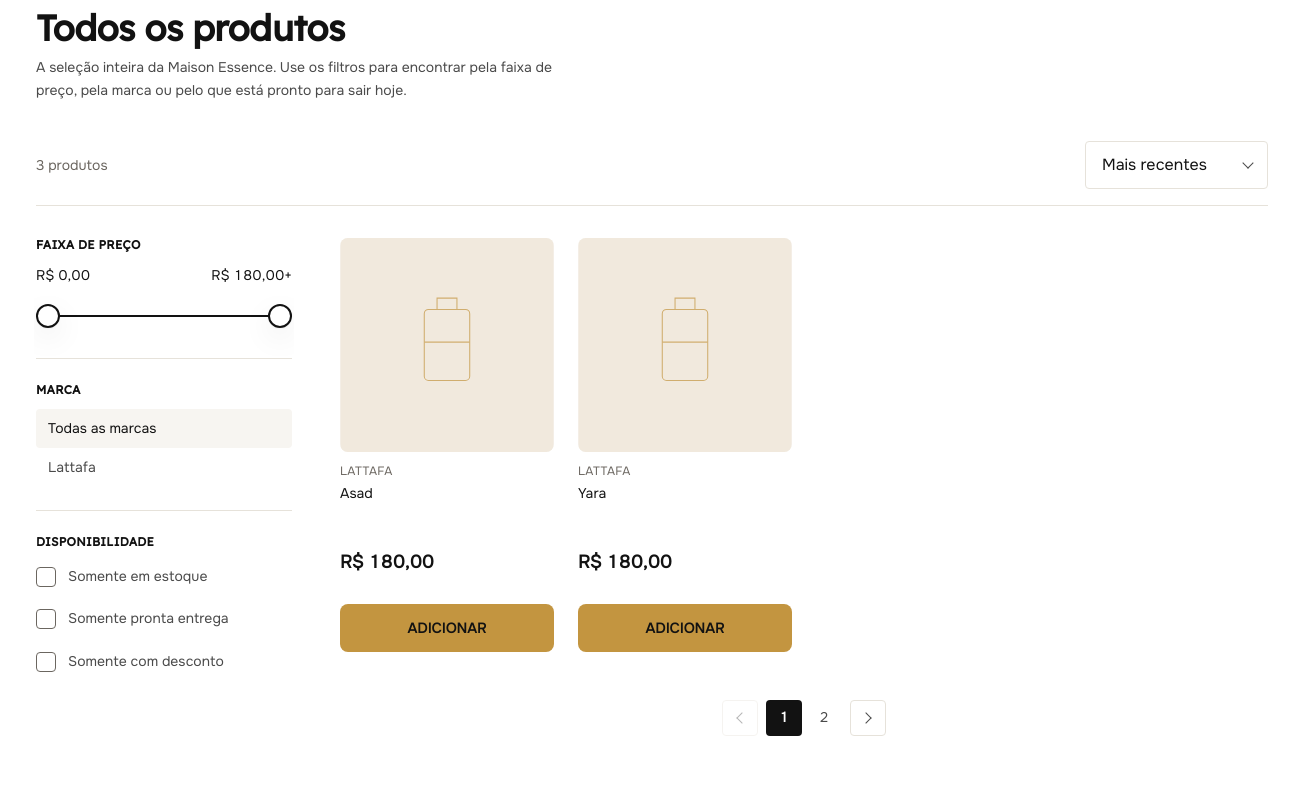
Scenario: no desktop a paginação e numerada e troca a página em tela
The image size is (1292, 800).
(page scrolled)
Expected: the heading "Asad" is shown, 340,484 -> 373,502
Click the button named "Página 2".
click(824, 718)  # box 806,700 -> 842,736
(page scrolled)
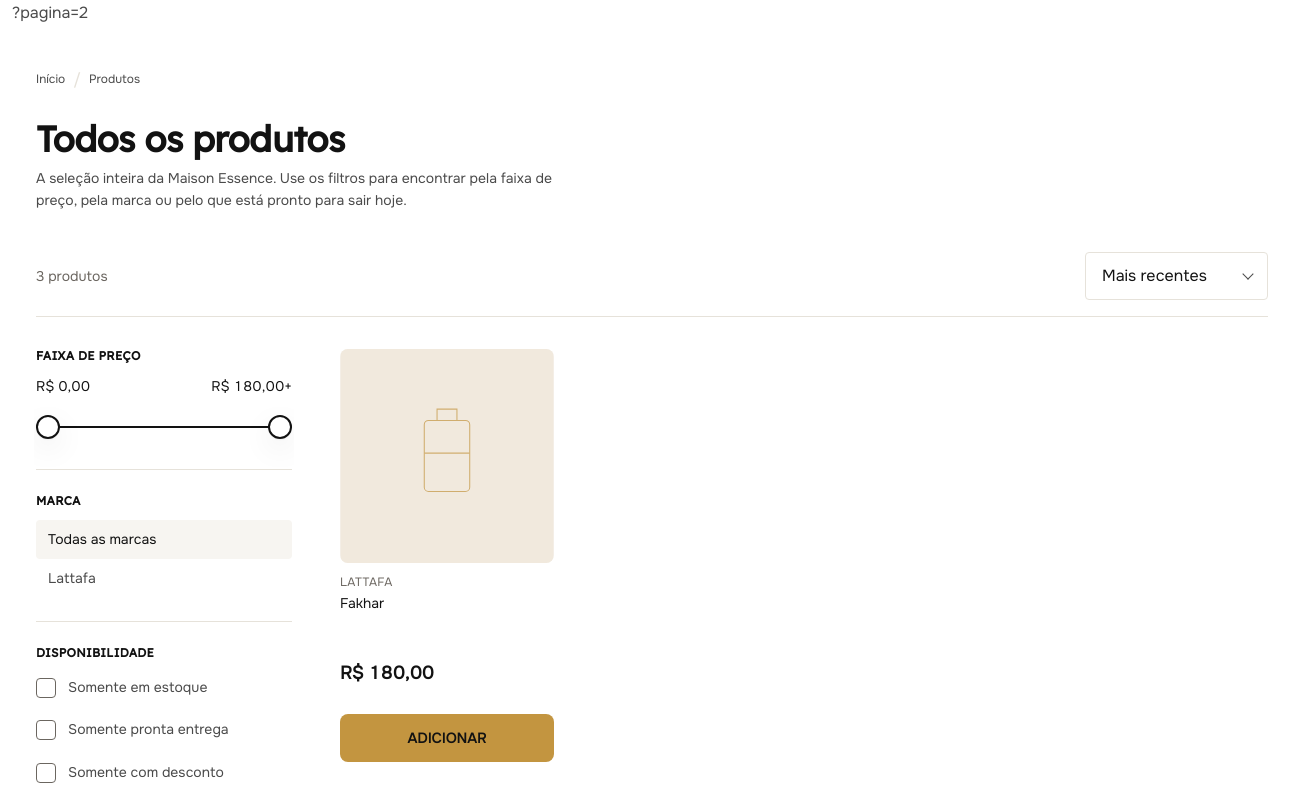
Expected: the heading "Fakhar" is shown, 340,594 -> 384,612
Expected: the link "Asad" is gone
Expected: the text with test id "url" reads "?pagina=2", 12,2 -> 88,23
